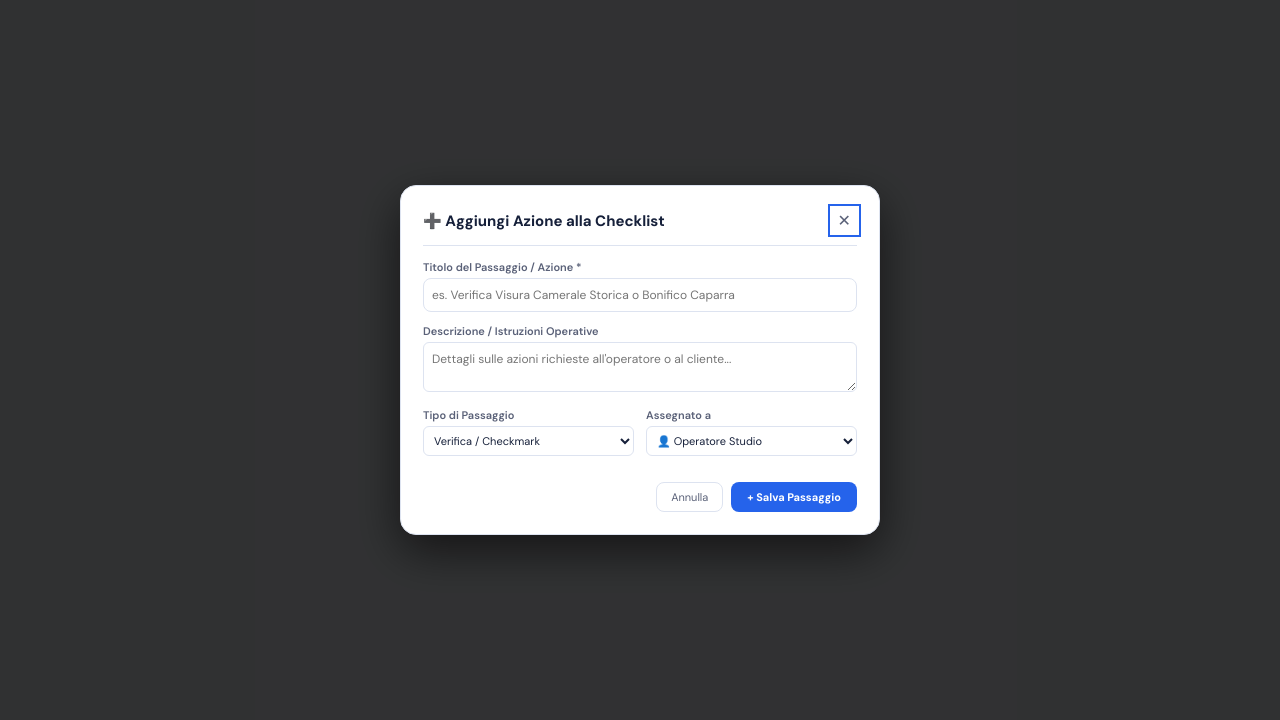
Test case: ModaleNuovaAzione — nessun documento inventato › lo dice all'operatore, invece di lasciarglielo scoprire
Step 1. Select "Documento / Firma PDF" in the dropdown labelled "Tipo di Passaggio" → (528, 441), box x1=423 y1=426 x2=634 y2=456
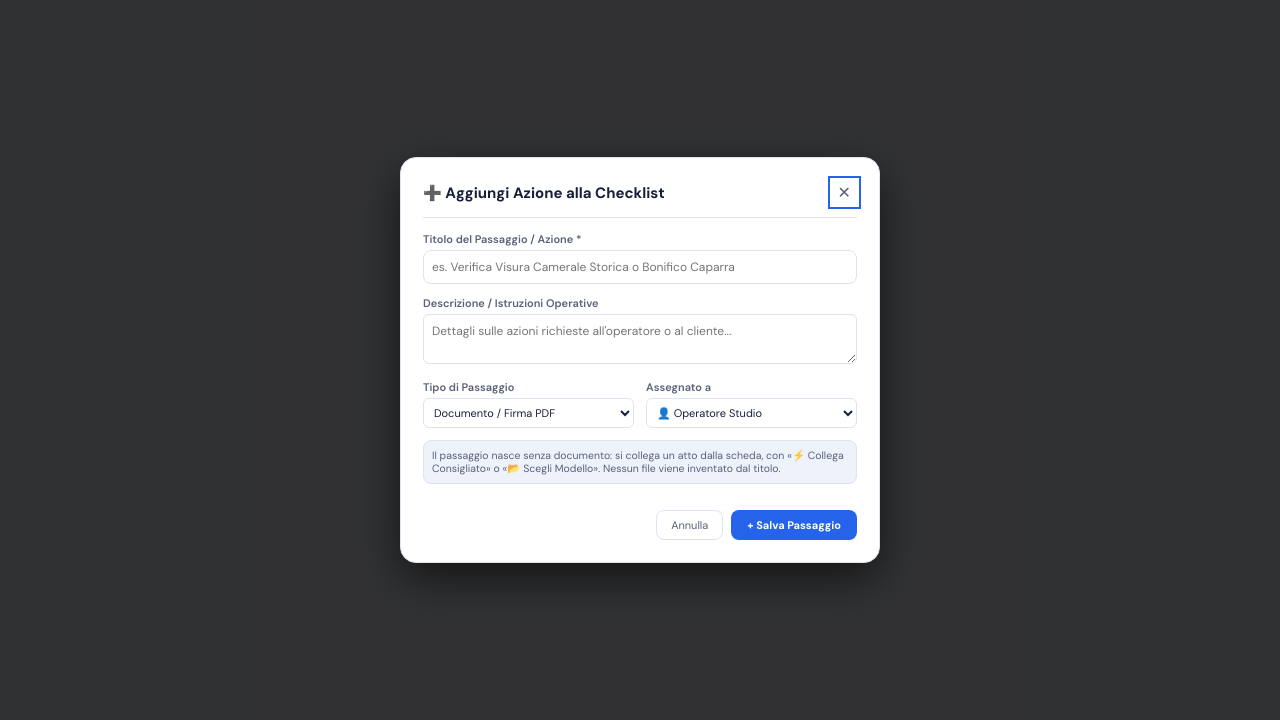
Expected: the text "nasce senza documento" is shown, x1=432 y1=449 x2=844 y2=475
